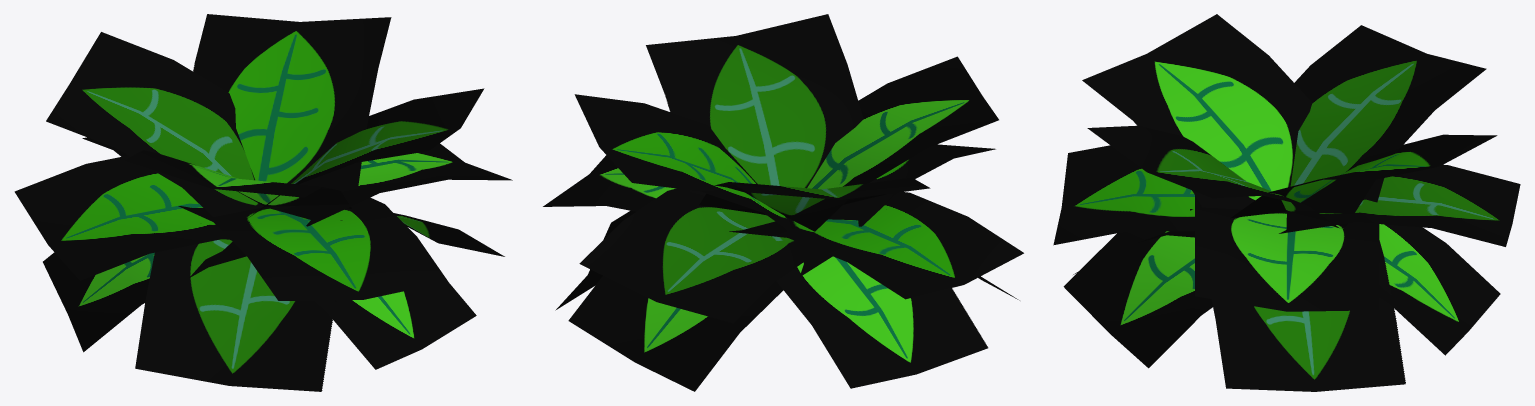
The model's file is BushPlant1.FBX.
3 renders of one model, left to right at view 1: azimuth 30°, elevation 25°; view 2: azimuth 150°, elevation 25°; view 3: azimuth 270°, elevation 25°, orthographic. The views are drawn at different scales.
Visible parts, largest first — view 1: Petal011; view 2: Petal011; view 3: Petal011.
Part boxes in pixels (bbox=[...]): Petal011: bbox=[14, 14, 512, 391]; Petal011: bbox=[543, 14, 1023, 391]; Petal011: bbox=[1053, 14, 1520, 391].
Bounding box in the file's own units: 193 × 91.2 × 189.
3 materials, 3 textured.
